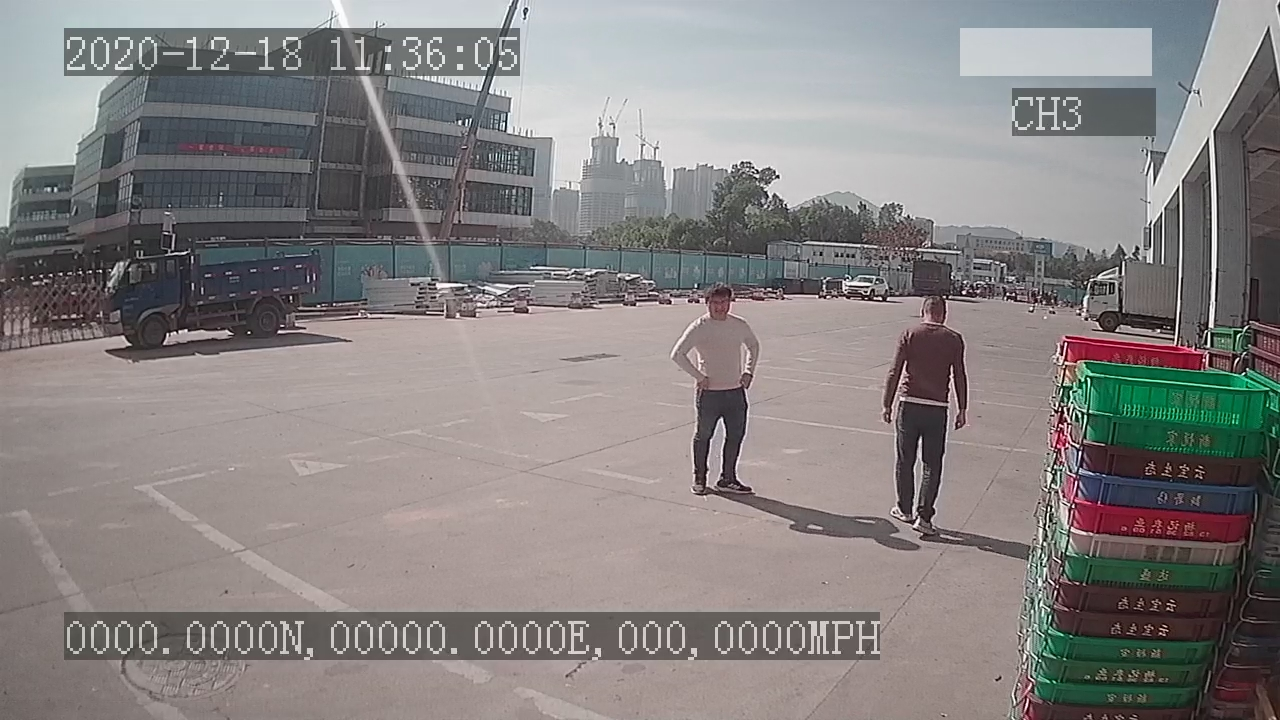person: (884, 291, 969, 545), (672, 279, 763, 497)
